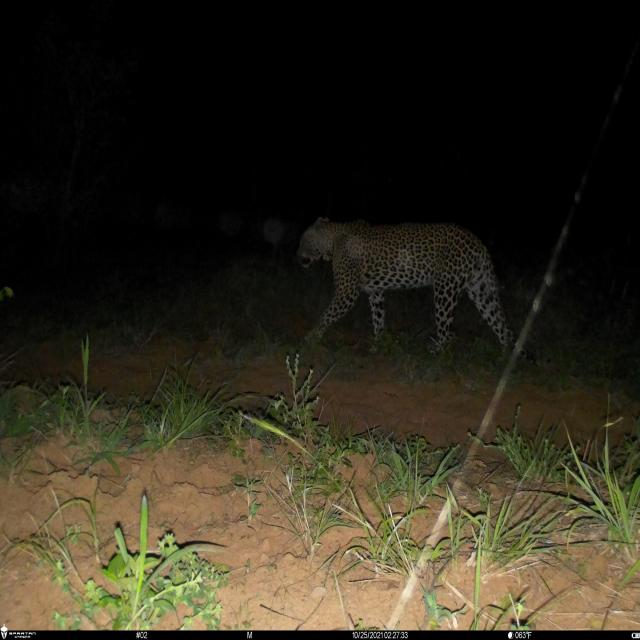Leopard: (293, 208, 546, 376)
